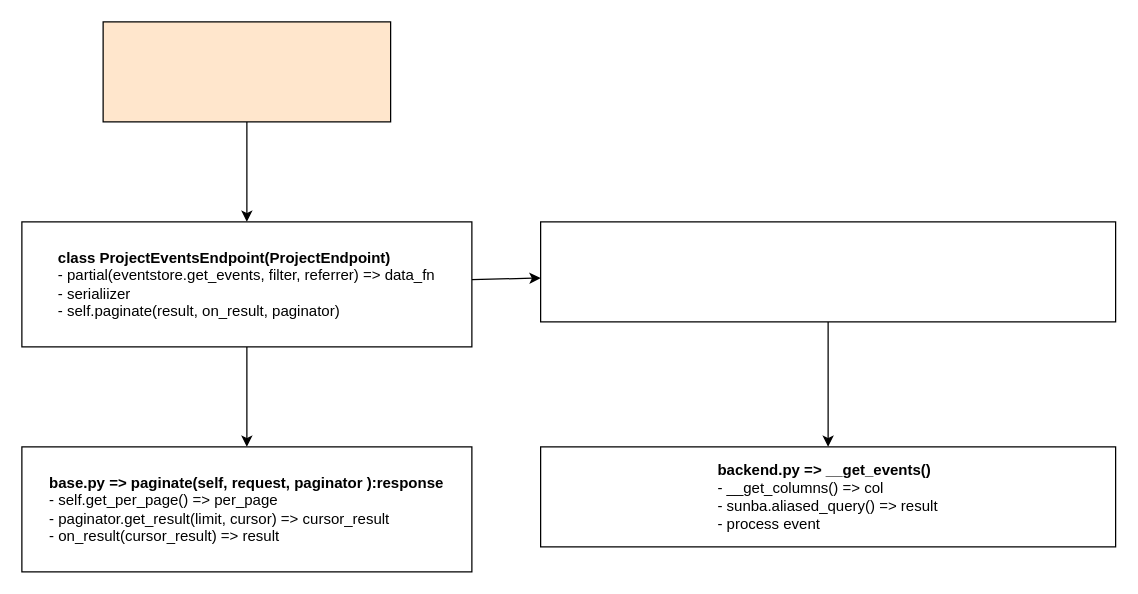
The diagram is 1138 pixels wide and 594 high, and some of its shapes have lost their labels. Each missing label, with the centre of its shape:
eventstore.get_events(self, sunba_filter,orderby,limit,offset,referrer): the point at 827,271
urls.py - RegExp - ProjectEventsEndpoint.as_view() - name: the point at 246,71
